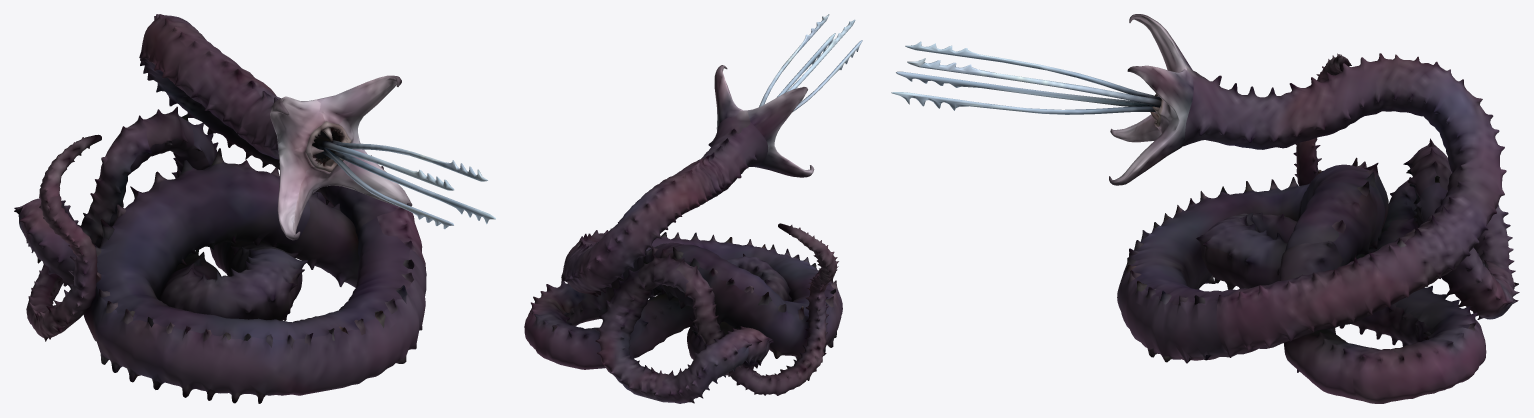
The model's file is MZ4250 - Neothelid.glb.
3 renders of one model, left to right at view 1: azimuth 30°, elevation 25°; view 2: azimuth 150°, elevation 25°; view 3: azimuth 270°, elevation 25°, orthographic. The views are drawn at different scales.
Parts seen in each view (by area): view 1: Cylinder.001; view 2: Cylinder.001; view 3: Cylinder.001.
Part boxes in pixels (bbox=[...]): Cylinder.001: bbox=[14, 14, 495, 403]; Cylinder.001: bbox=[524, 14, 862, 403]; Cylinder.001: bbox=[891, 14, 1519, 403].
Bounding box in the file's own units: 303 × 226 × 449.
1 material, 1 textured.
